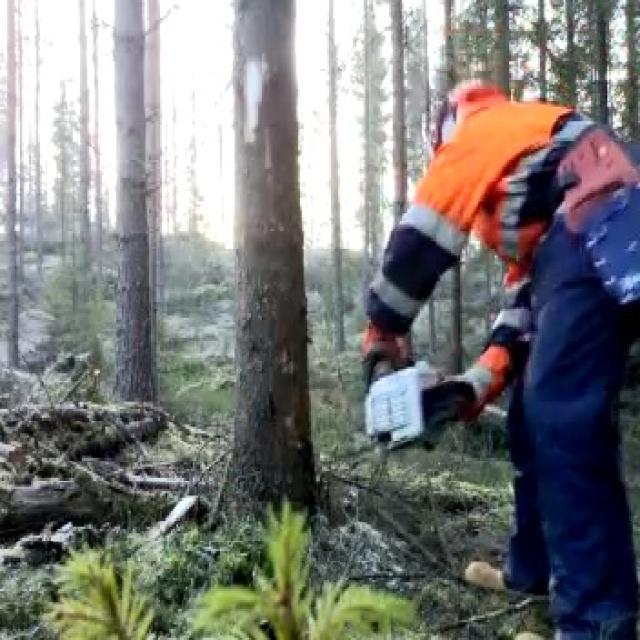Chainsaw: (347, 313, 515, 456)
